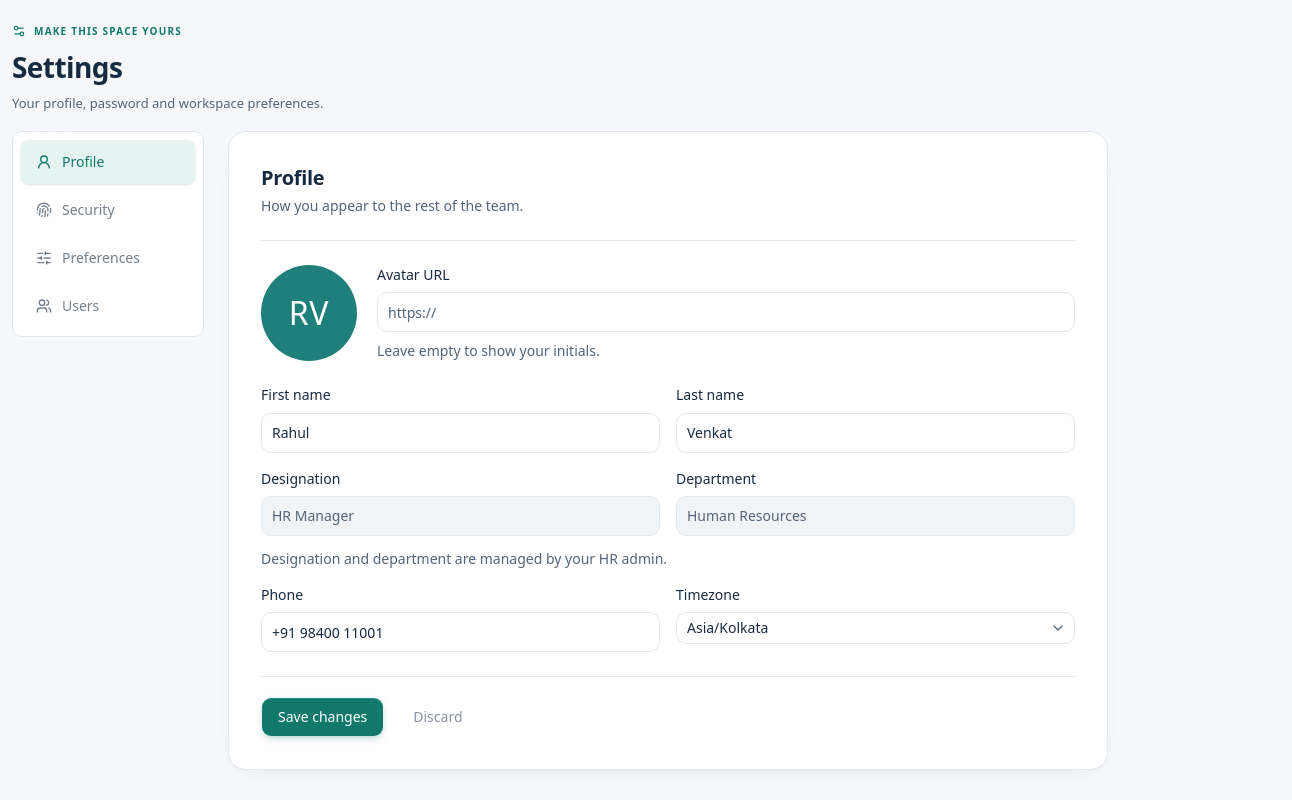
SettingsPage › maps server field errors onto the profile form
What coordinates should you click on to do the following:
click the button "Save changes"
I would click on:
 (323, 717)
Its box is [261, 697, 384, 737].
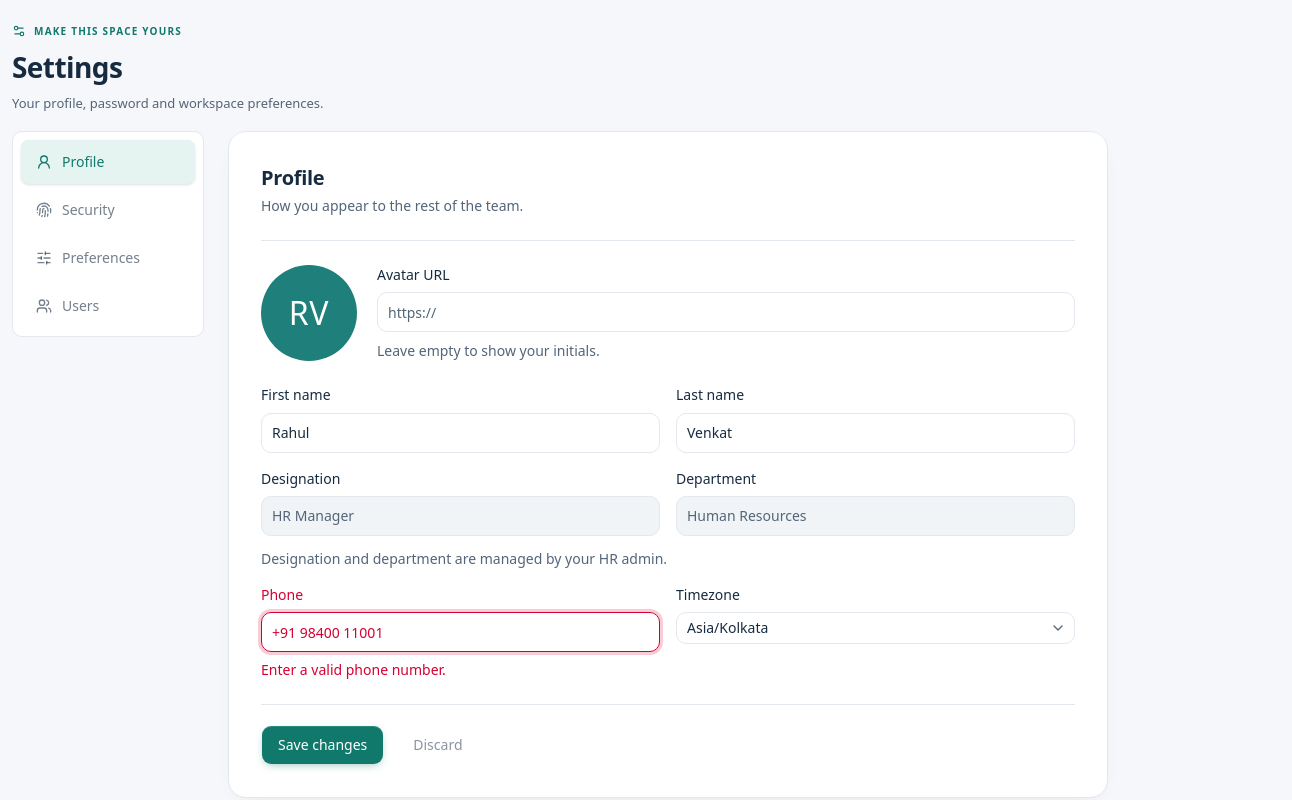
Check: the text "Enter a valid phone number." is shown, box [261, 660, 446, 679]
